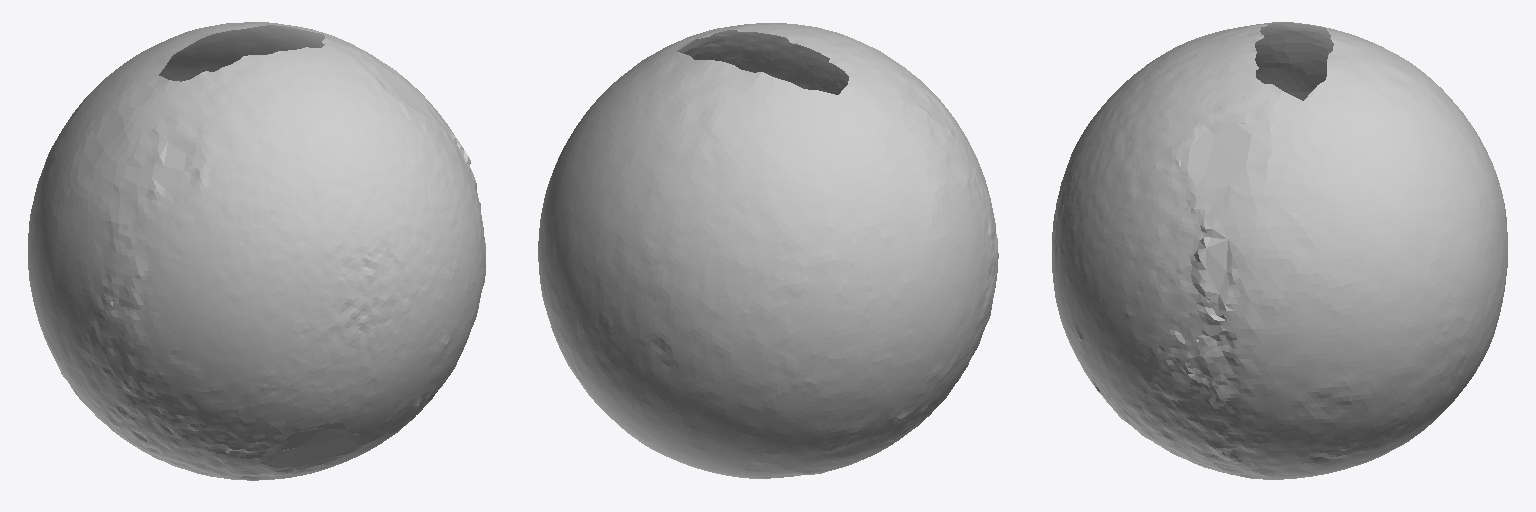
File: Gridtest_0_3_1.000001.obj
3 renders of one model, left to right at view 1: azimuth 30°, elevation 25°; view 2: azimuth 150°, elevation 25°; view 3: azimuth 270°, elevation 25°, orthographic.
Bounding box in the file's own units: 299 × 304 × 298.